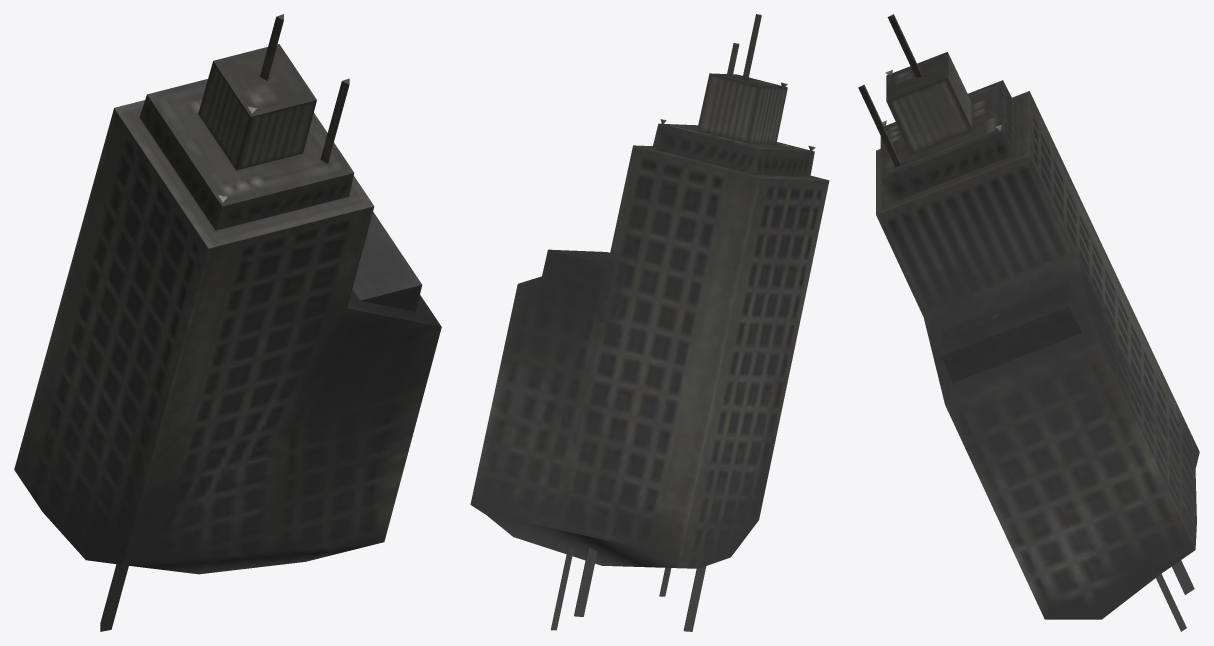
Rendered from skyBuildingAAB_pos_grp (13).fbx.
3 renders of one model, left to right at view 1: azimuth 30°, elevation 25°; view 2: azimuth 150°, elevation 25°; view 3: azimuth 270°, elevation 25°, orthographic. The views are drawn at different scales.
Parts seen in each view (by area): view 1: skyBuildingAAB_geo; view 2: skyBuildingAAB_geo; view 3: skyBuildingAAB_geo.
Part boxes in pixels (box(x1,y1,x2,y2)): skyBuildingAAB_geo: box(14, 14, 441, 631); skyBuildingAAB_geo: box(470, 14, 829, 631); skyBuildingAAB_geo: box(858, 14, 1199, 631).
Bounding box in the file's own units: 3.51 × 8.47 × 4.54.
